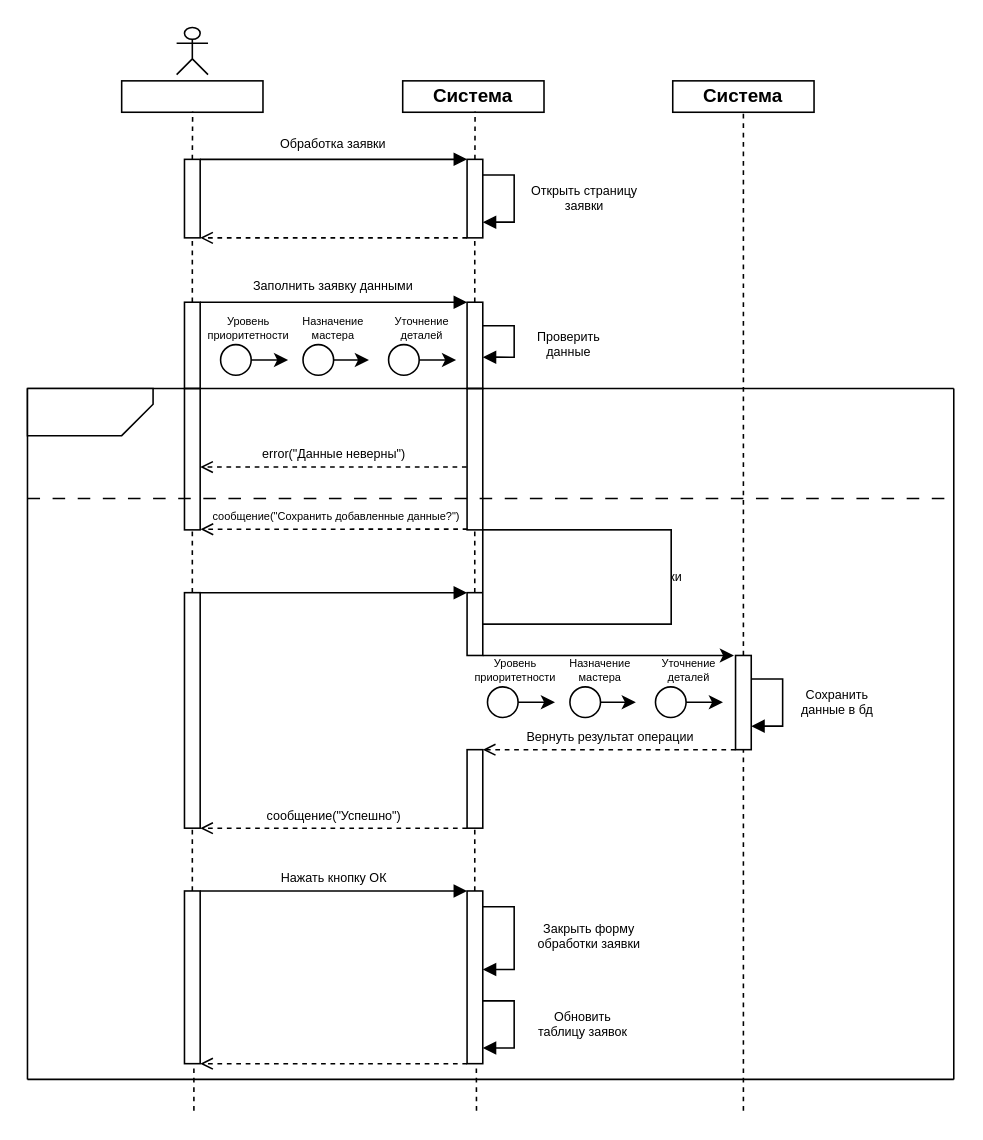
Image size: 983x1140. Some labels were removed from this diagram. The centre of each missing label's shape, as x and y in pixels:
"альт" belongs at pixel 89 411.
"Оператор" belongs at pixel 191 50.
